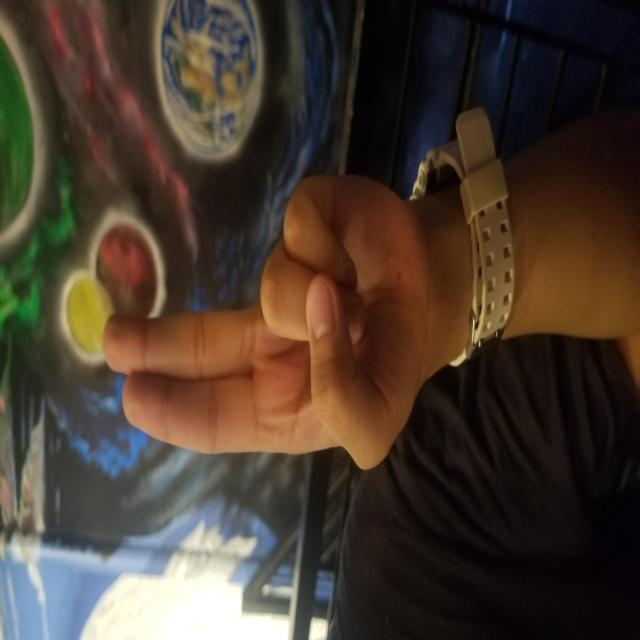U: (166, 104, 468, 413)
